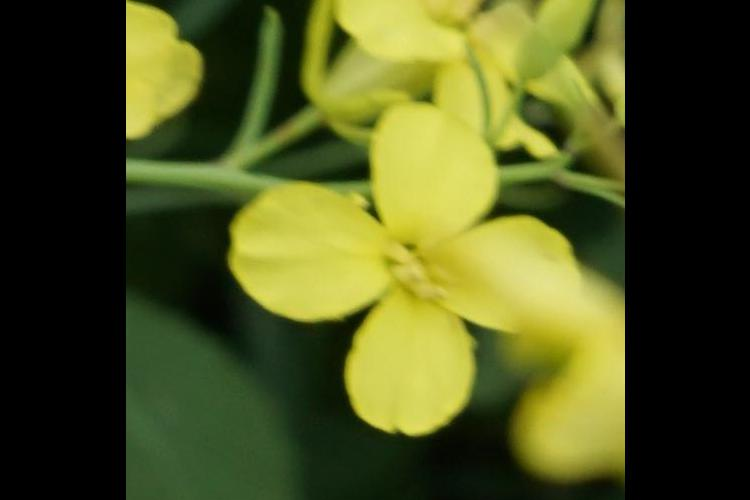bud: (525, 1, 609, 86)
yellow: (229, 147, 557, 453), (346, 1, 553, 130)
